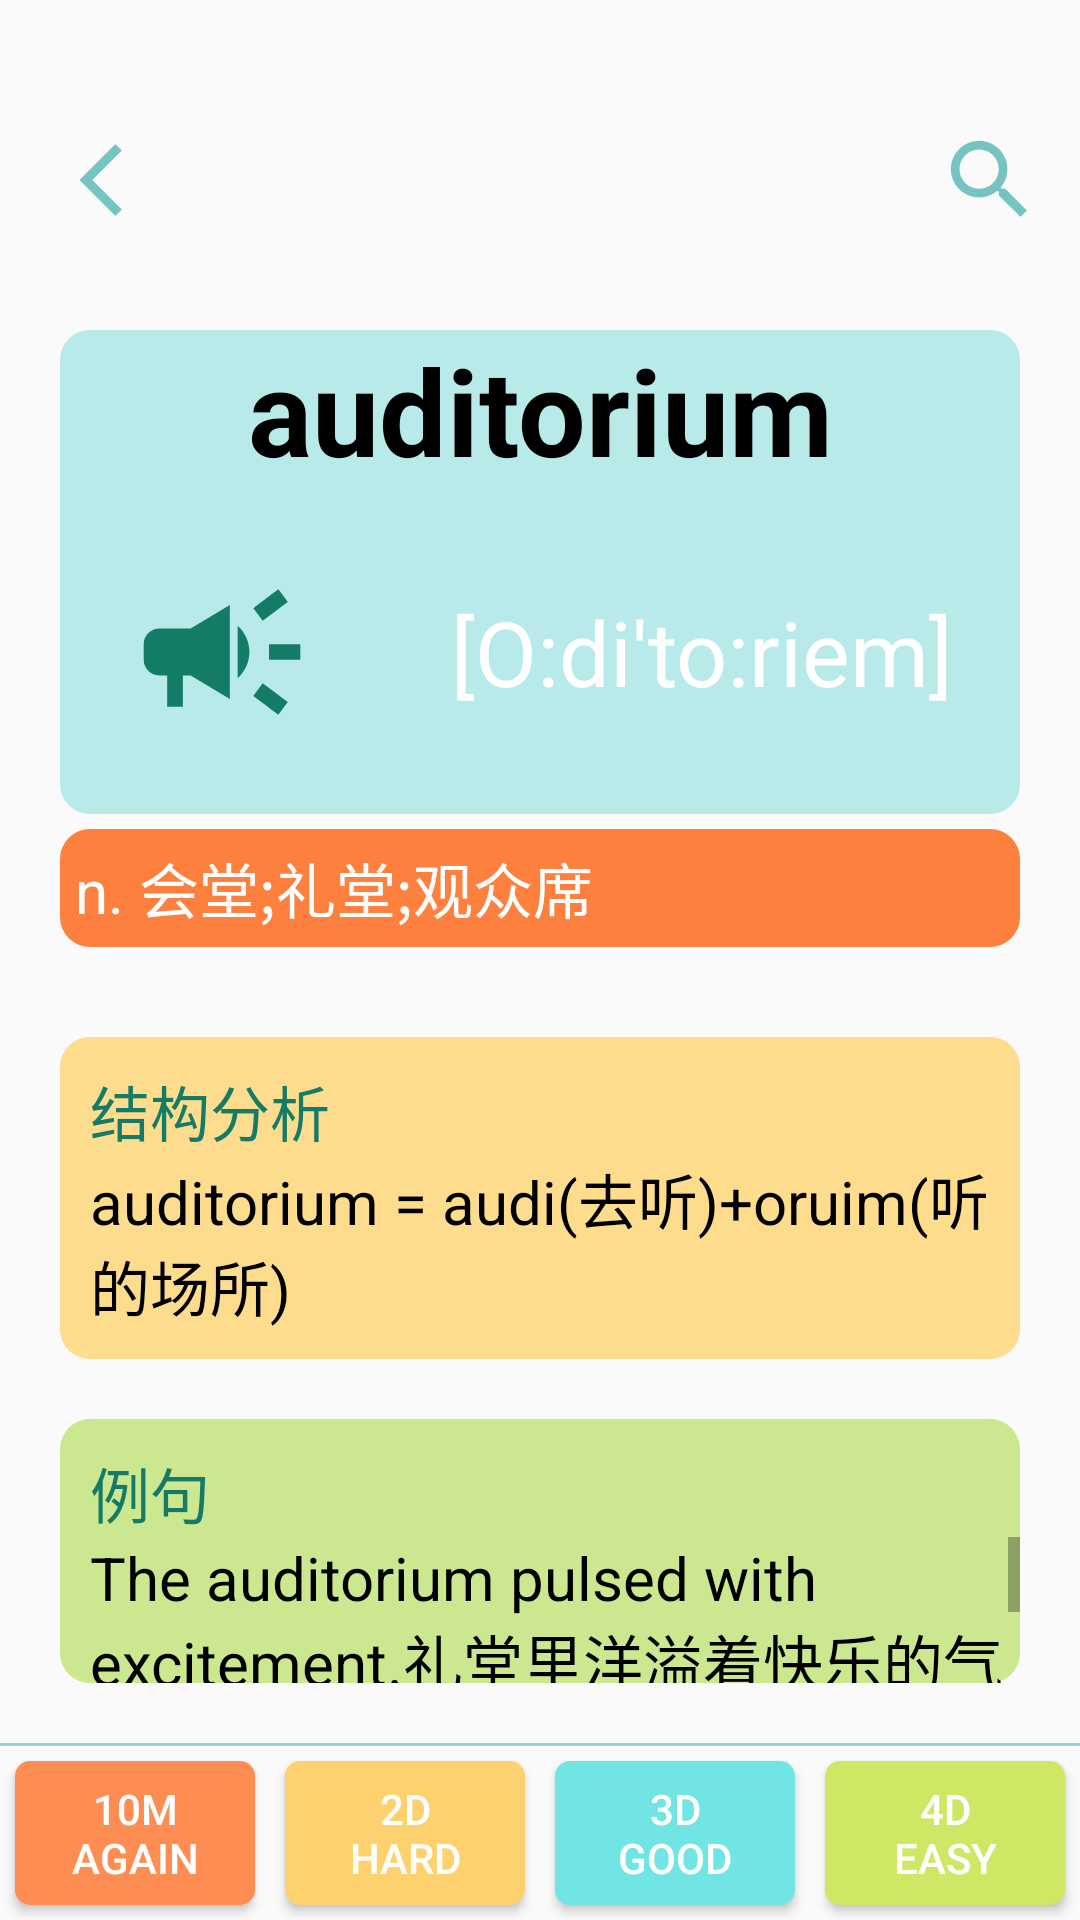

Screen size 1080x1920. Icon name, then its center in pixels as (x=x, y=y):
back: (x=101, y=180)
horn: (x=222, y=652)
search: (x=988, y=178)
